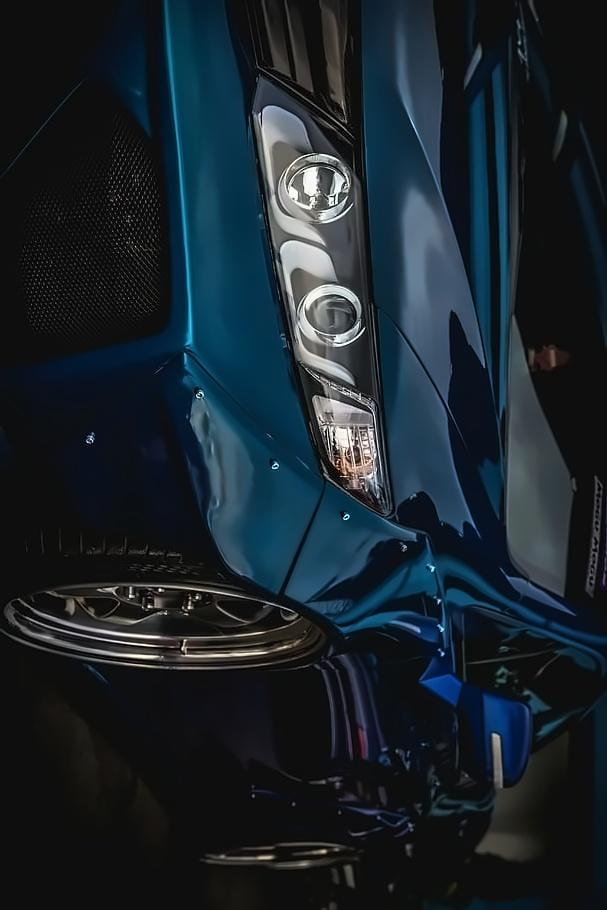Car hood: (366, 0, 538, 577)
Front bumper: (0, 0, 322, 599)
Headlight - -R-: (242, 62, 400, 507)
Side mirror - -L-: (423, 634, 538, 802)
